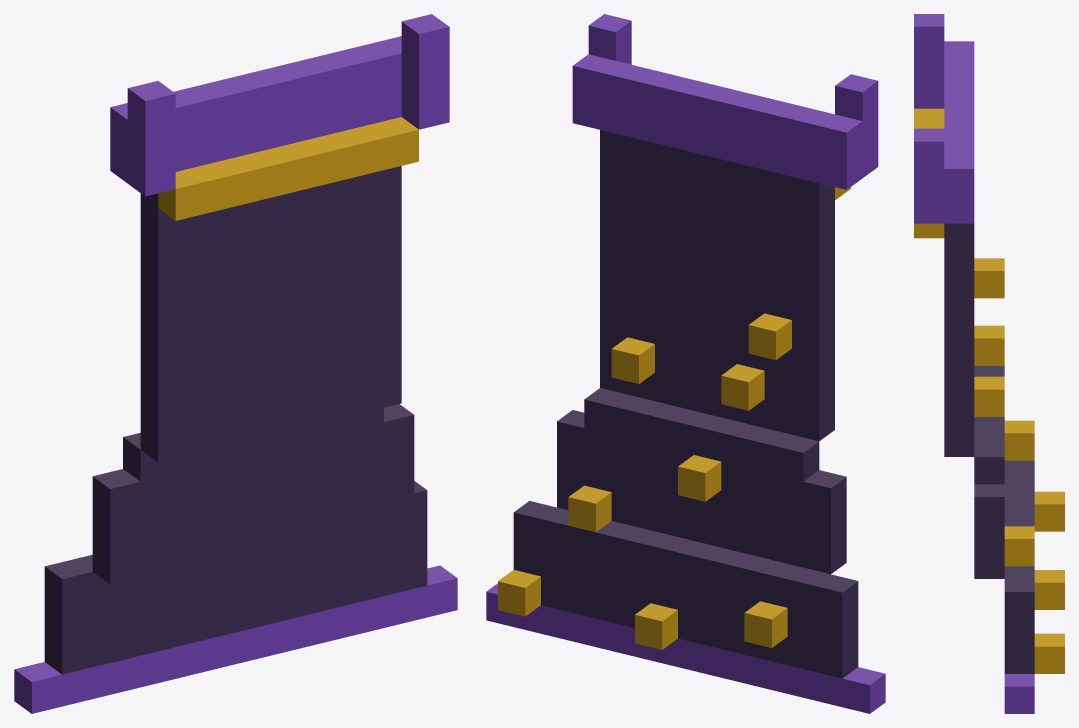
The model's file is Mage_Cape.glb.
3 views of the same model, side by side, from view 1: azimuth 30°, elevation 25°; view 2: azimuth 150°, elevation 25°; view 3: azimuth 270°, elevation 25° (orthographic). The views are drawn at different scales.
Parts seen in each view (by area): view 1: Mage_Cape; view 2: Mage_Cape; view 3: Mage_Cape.
Boxes of the visible parts, bbox=[...] form: Mage_Cape: bbox=[14, 14, 457, 713]; Mage_Cape: bbox=[486, 14, 885, 713]; Mage_Cape: bbox=[914, 14, 1064, 713].
Size of the model in its own units: 3.5 by 5 by 1.25.
